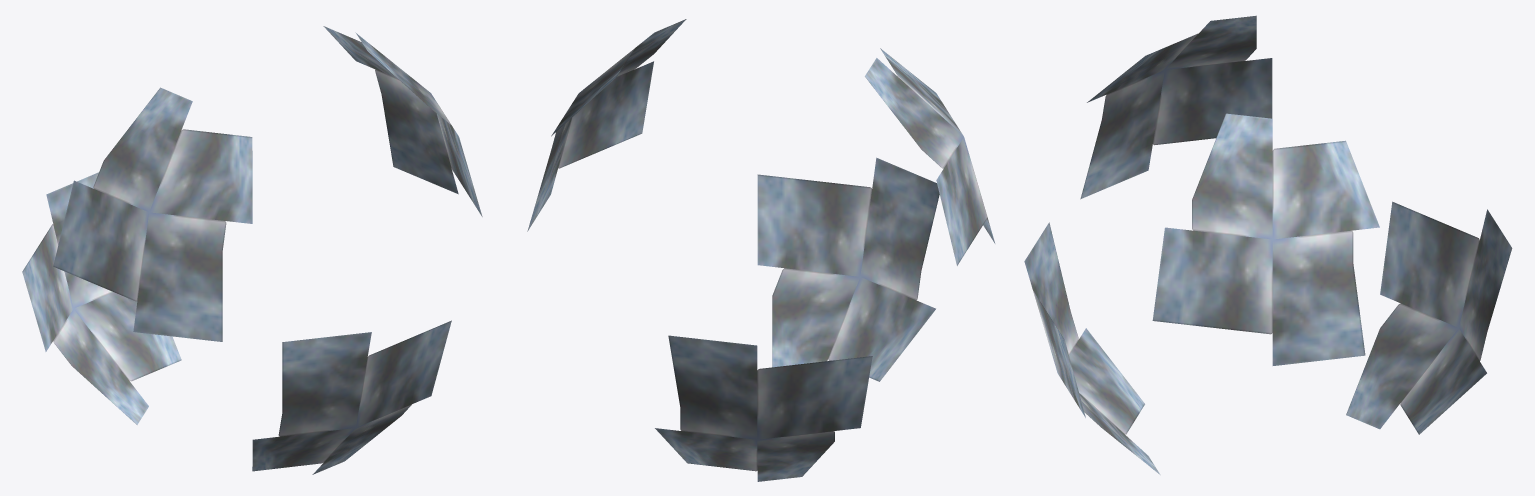
The picture shows the model from 3 angles, left to right: view 1: azimuth 30°, elevation 25°; view 2: azimuth 150°, elevation 25°; view 3: azimuth 270°, elevation 25°; orthographic projection. The views are drawn at different scales.
Visible parts, largest first — view 1: T1L2M003_19; view 2: T1L2M003_19; view 3: T1L2M003_19.
Part boxes in pixels (x1=…): T1L2M003_19: x1=22, y1=26, x2=482, y2=474; T1L2M003_19: x1=527, y1=19, x2=995, y2=481; T1L2M003_19: x1=1024, y1=15, x2=1512, y2=474.
Bounding box in the file's own units: 0.7998 × 0.6924 × 0.7998.
